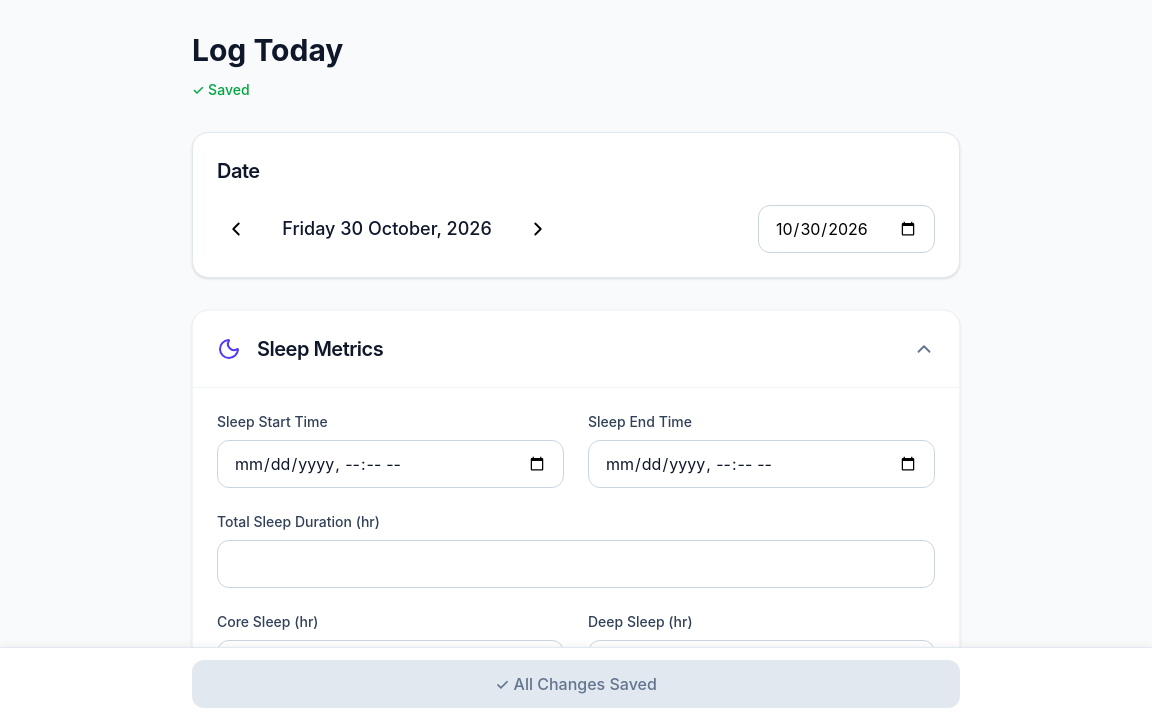
Test case: LogSleepMetrics › handles save failure
Type "8" into the number field labelled "Total Sleep Duration (hr)" at (576, 564), box [217,540,935,588]
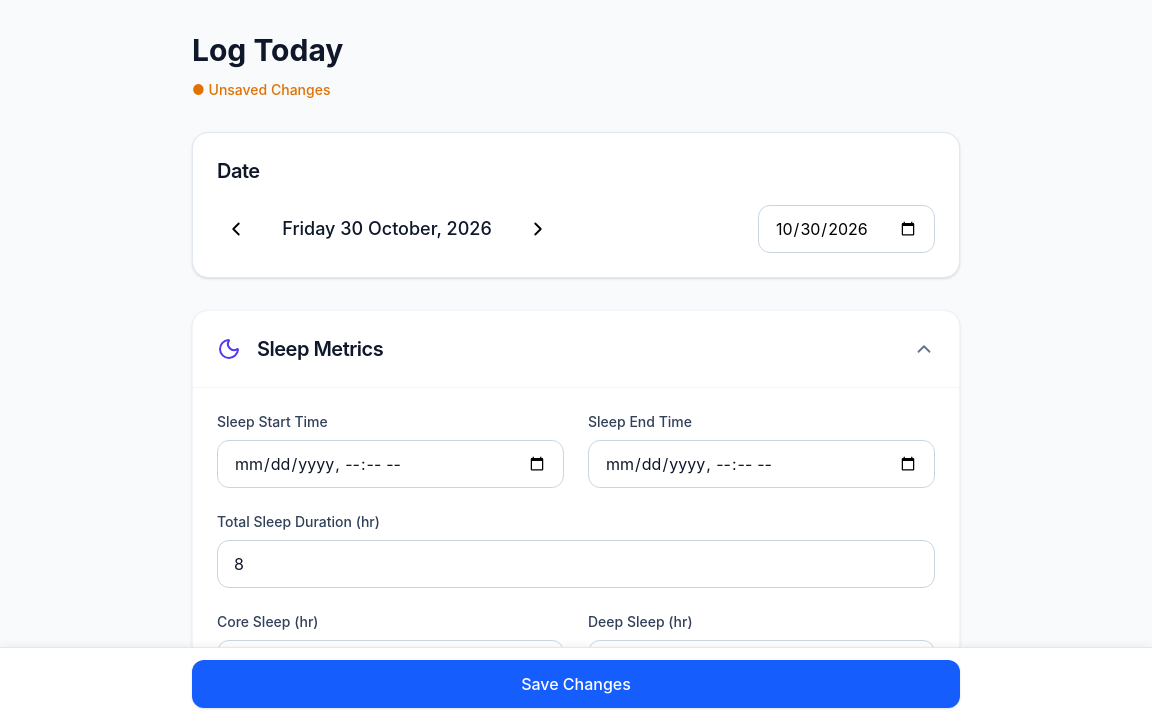
Click the button "Save Changes" at (576, 684), box [192,660,960,708]
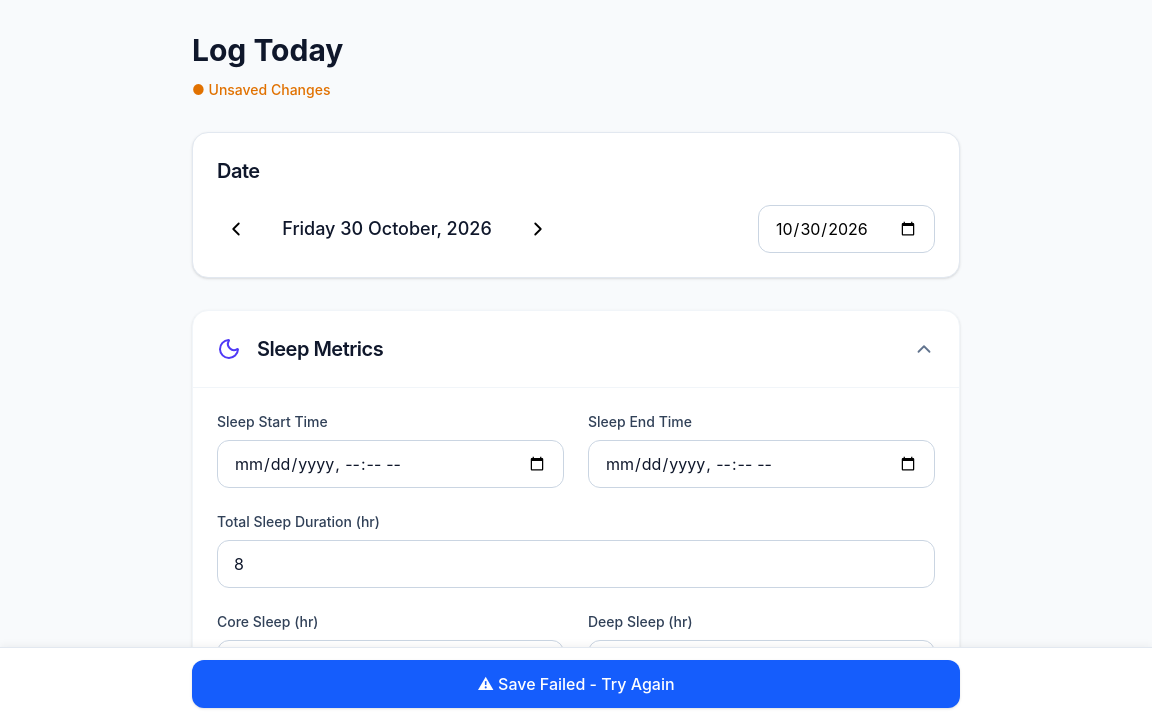
Expected: the button "⚠ Save Failed - Try Again" is shown, [192,660,960,708]
